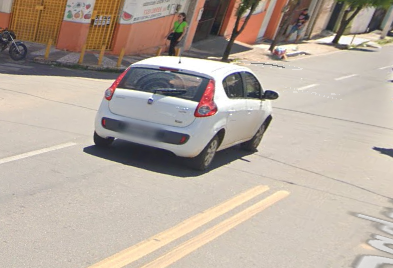car: (90, 41, 281, 178)
